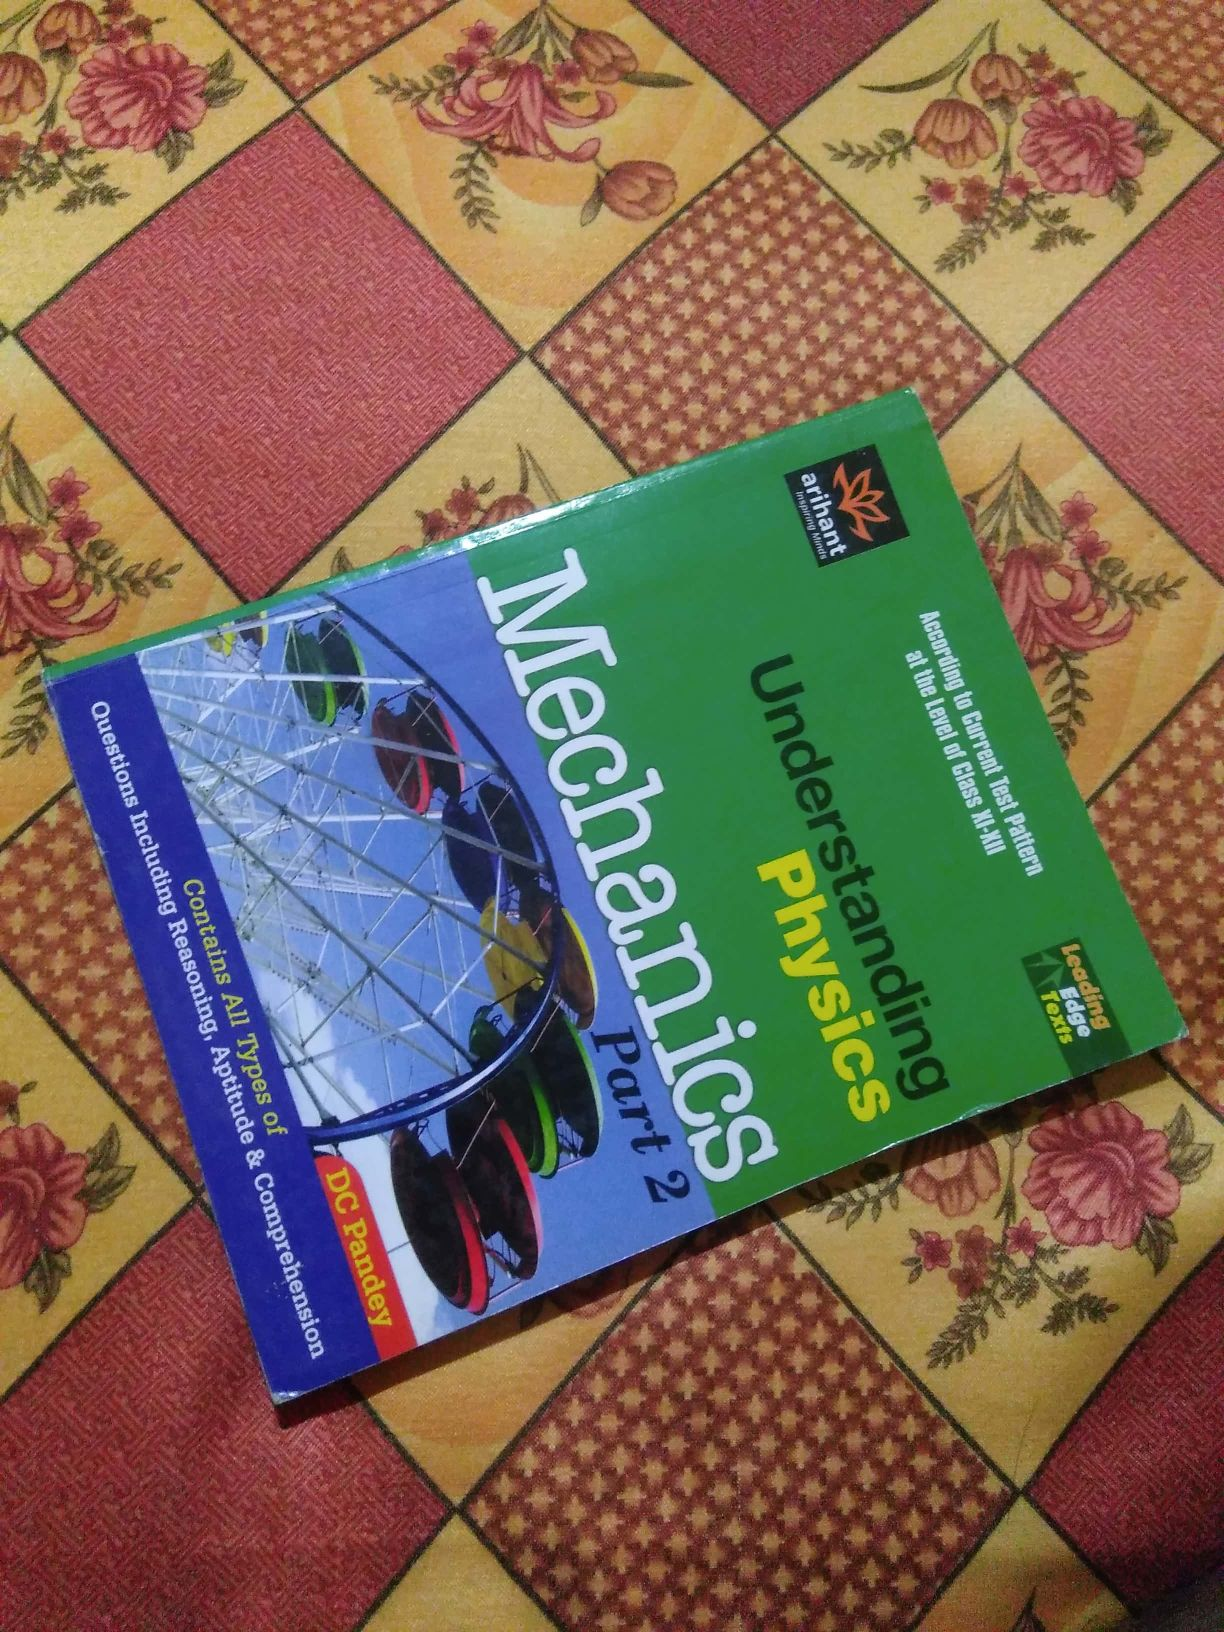mechanics: (33, 500, 1214, 1309)
